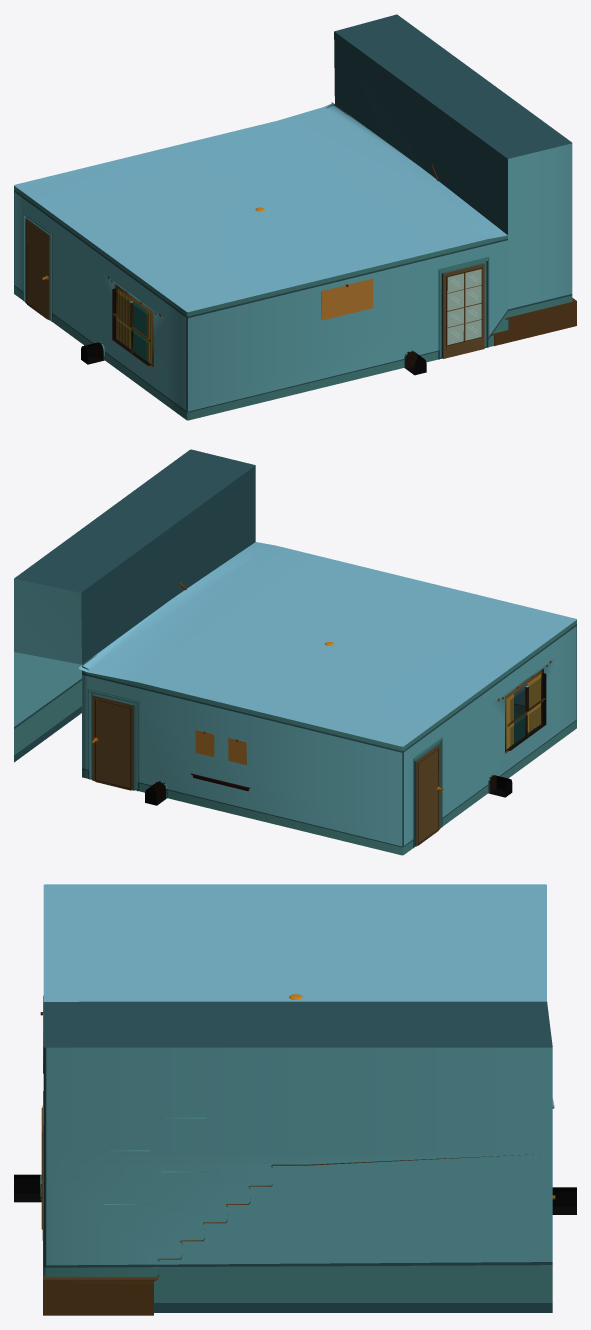
Rendered from house.obj.
3 views of the same model, one above another, from view 1: azimuth 30°, elevation 25°; view 2: azimuth 150°, elevation 25°; view 3: azimuth 270°, elevation 25° (orthographic). The views are drawn at different scales.
Visible parts, largest first — view 1: House, Ceiling, Doors, Paintings, Curtains; view 2: House, Ceiling, Doors, Curtains, Paintings; view 3: House, Ceiling, TrouSouris_3_Tunnel, TrouSouris_1_Tunnel.
Part boxes in pixels (x1,y1,x2,y2): House: [14, 14, 576, 420]; Ceiling: [14, 102, 507, 312]; Doors: [23, 213, 488, 359]; Paintings: [321, 278, 373, 320]; Curtains: [117, 289, 152, 363]; House: [14, 449, 576, 855]; Ceiling: [78, 542, 576, 746]; Doors: [89, 690, 442, 847]; Curtains: [506, 674, 540, 749]; Paintings: [195, 730, 246, 764]; House: [43, 1001, 552, 1315]; Ceiling: [43, 884, 554, 1108]; TrouSouris_3_Tunnel: [14, 1174, 41, 1202]; TrouSouris_1_Tunnel: [552, 1187, 576, 1214].
Bounding box in the file's own units: 68.24 × 31.21 × 56.58.
Materials: 44 (10 with a texture image).
